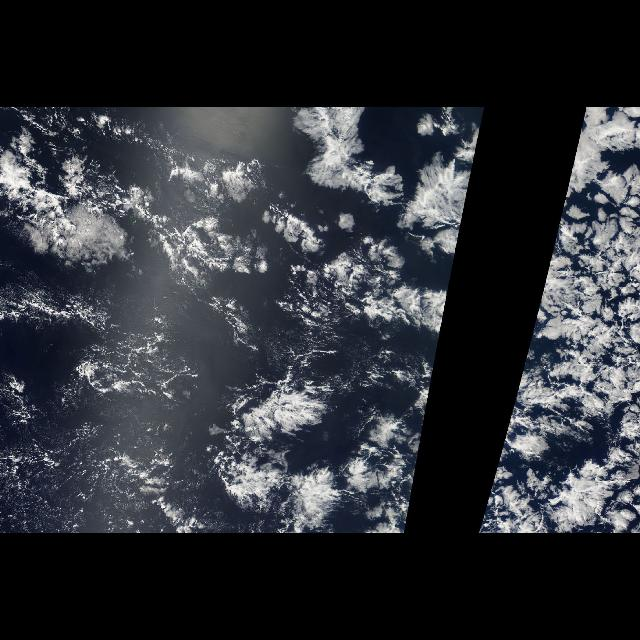Fish: (21, 111, 463, 531)
Flower: (13, 114, 485, 526), (479, 114, 633, 526)
Sugar: (7, 327, 215, 528)
